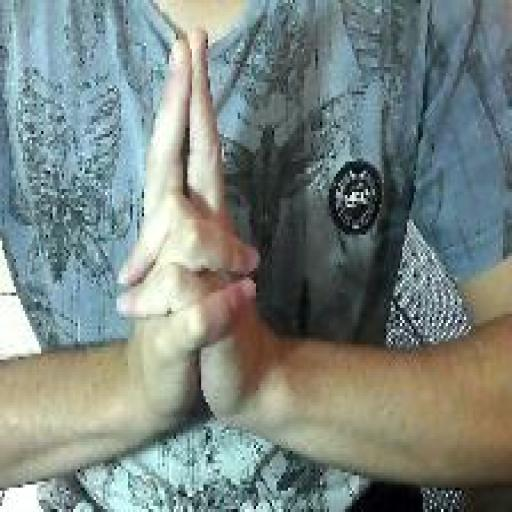Tora -tiger-: (113, 20, 264, 434)
